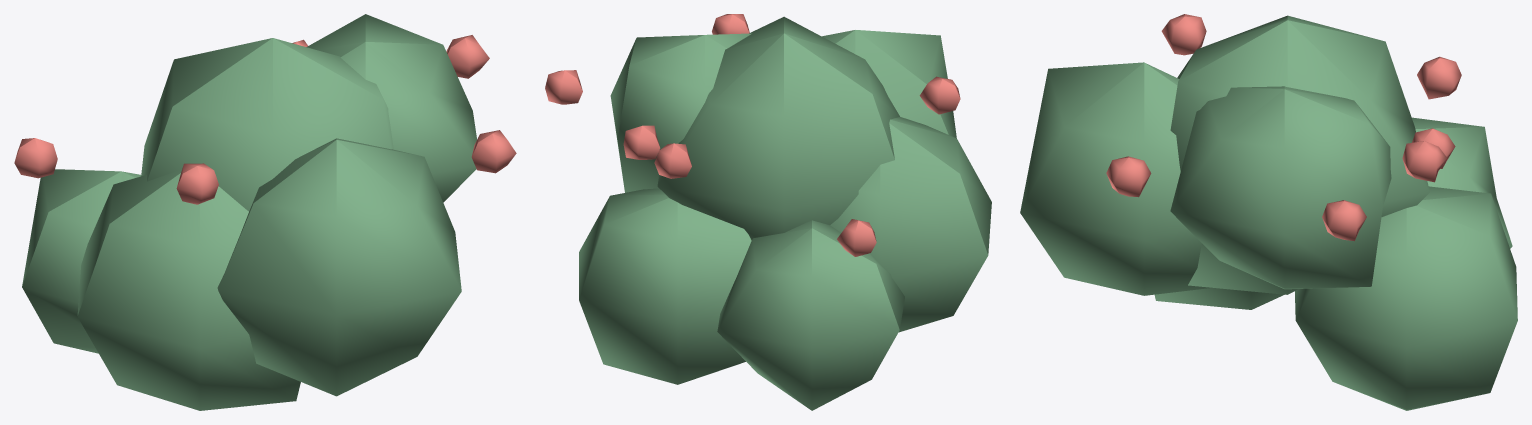
File: bush_berry.glb
3 views of the same model, side by side, from view 1: azimuth 30°, elevation 25°; view 2: azimuth 150°, elevation 25°; view 3: azimuth 270°, elevation 25° (orthographic). The views are drawn at different scales.
Parts seen in each view (by area): view 1: bush-berry; view 2: bush-berry; view 3: bush-berry.
Boxes of the visible parts, x1,y1,x2,y2 form: bush-berry: [14, 14, 516, 410]; bush-berry: [545, 14, 991, 410]; bush-berry: [1020, 14, 1517, 410].
Bounding box in the file's own units: 1.2 × 0.9261 × 1.16.
